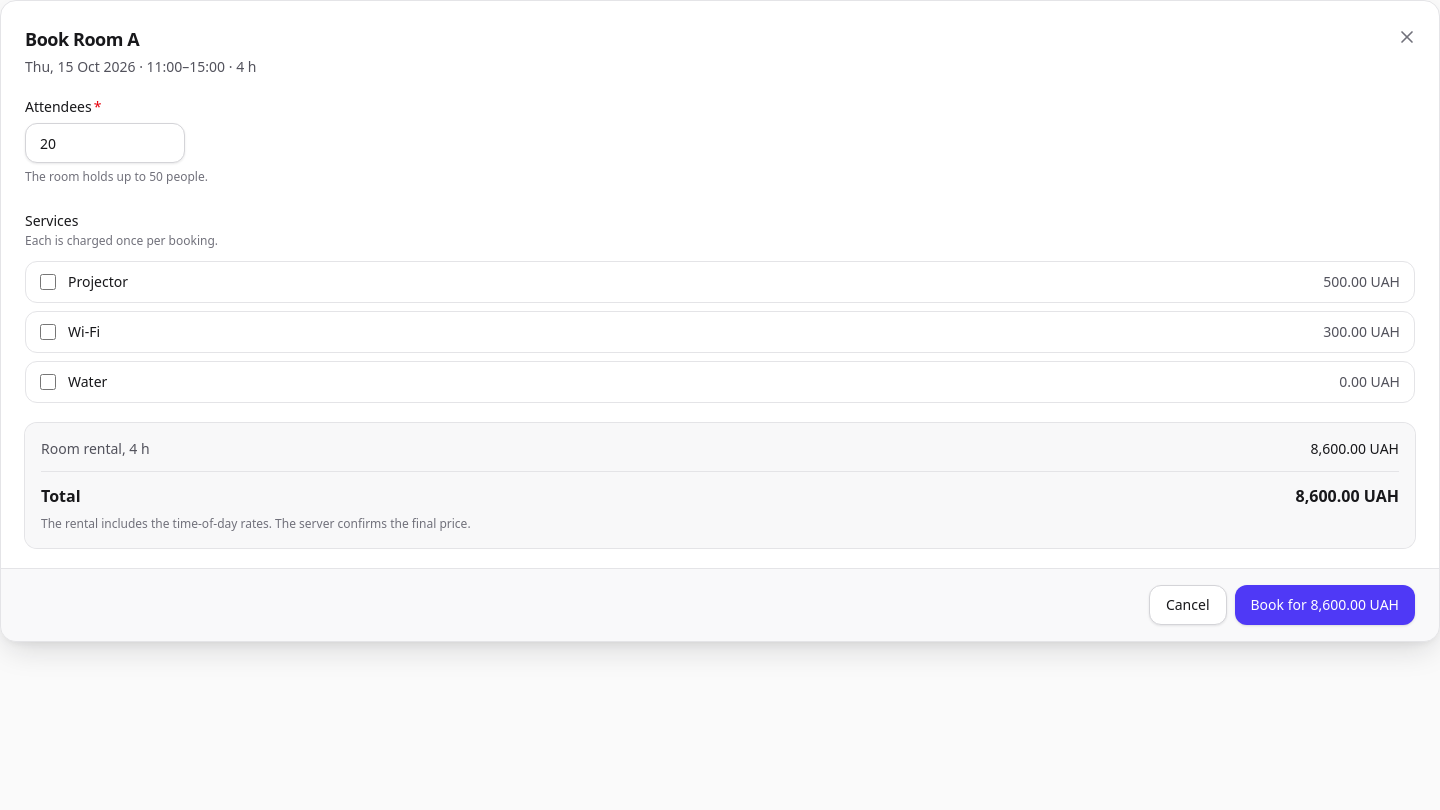
Test case: BookRoomDialogComponent › explains a room that no longer exists, and refreshes the results behind
Click the button "Book for 8,600.00 UAH" at (1325,605), box x1=1234 y1=585 x2=1415 y2=625
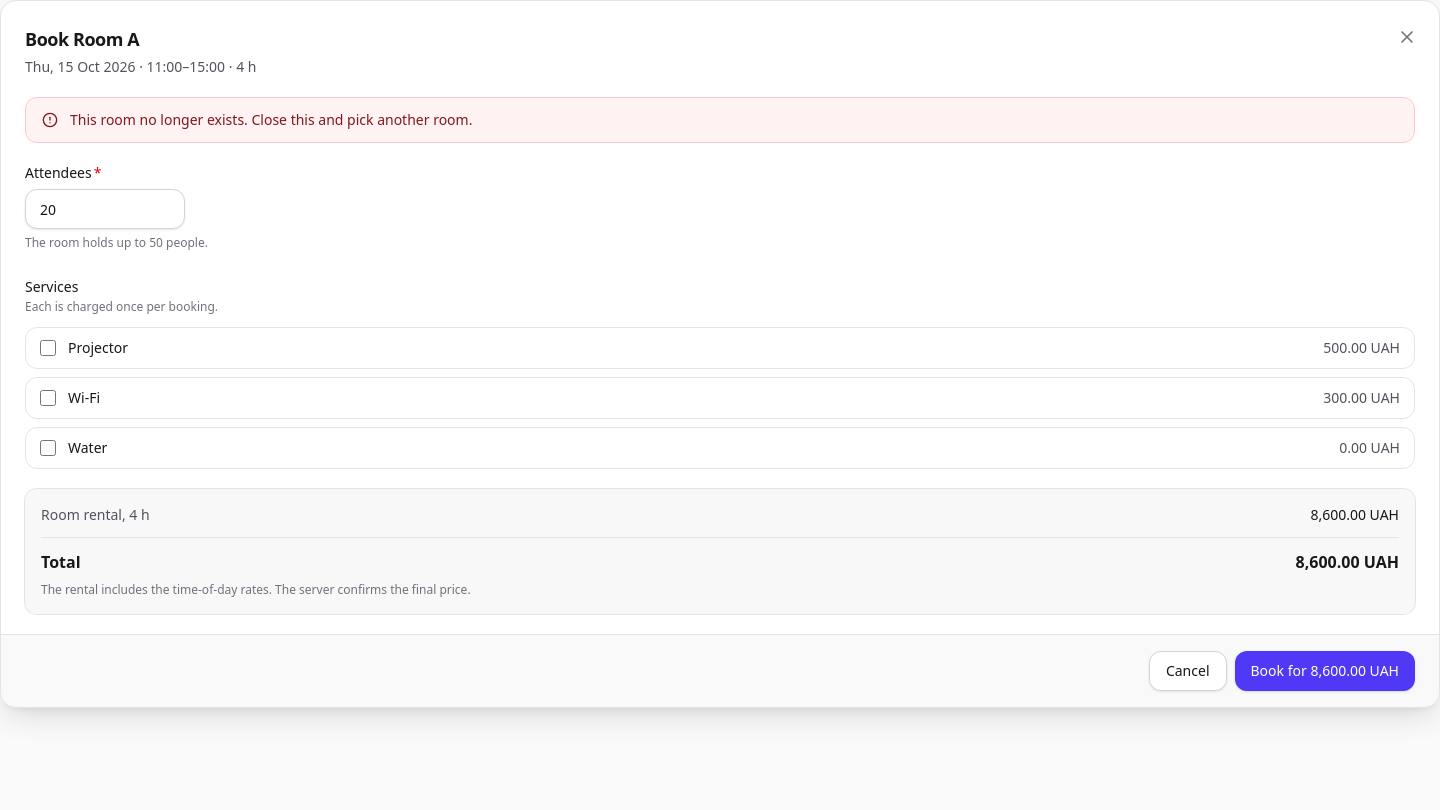
Expected: the message shows "This room no longer exists.", x1=70 y1=110 x2=472 y2=129
